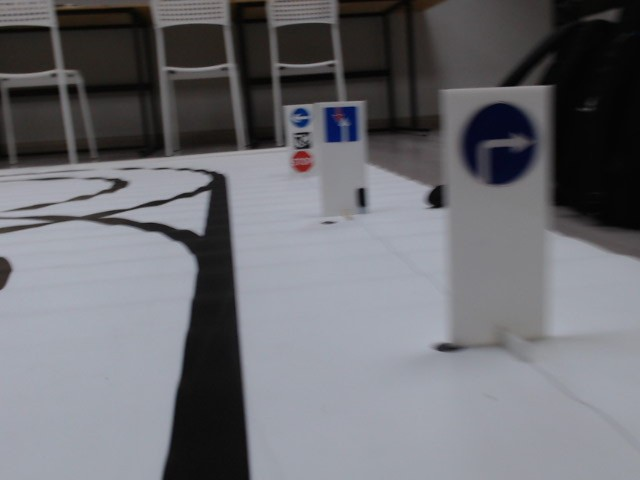Right: (456, 99, 540, 189)
Stop: (290, 151, 312, 171)
priority_movement: (324, 104, 360, 144)
